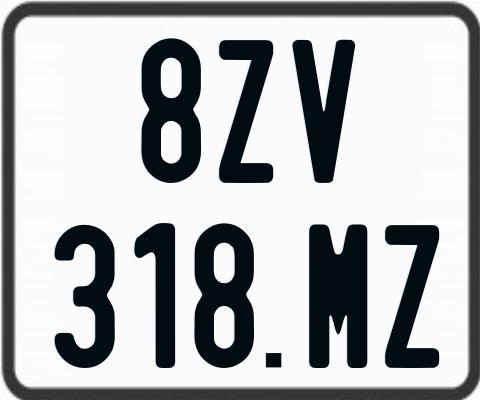1: (131, 220, 174, 367)
3: (54, 223, 114, 366)
8: (191, 221, 256, 370), (141, 35, 207, 180)
M: (306, 223, 369, 367)
V: (289, 38, 355, 181)
Z: (218, 38, 274, 184), (384, 224, 441, 367)
